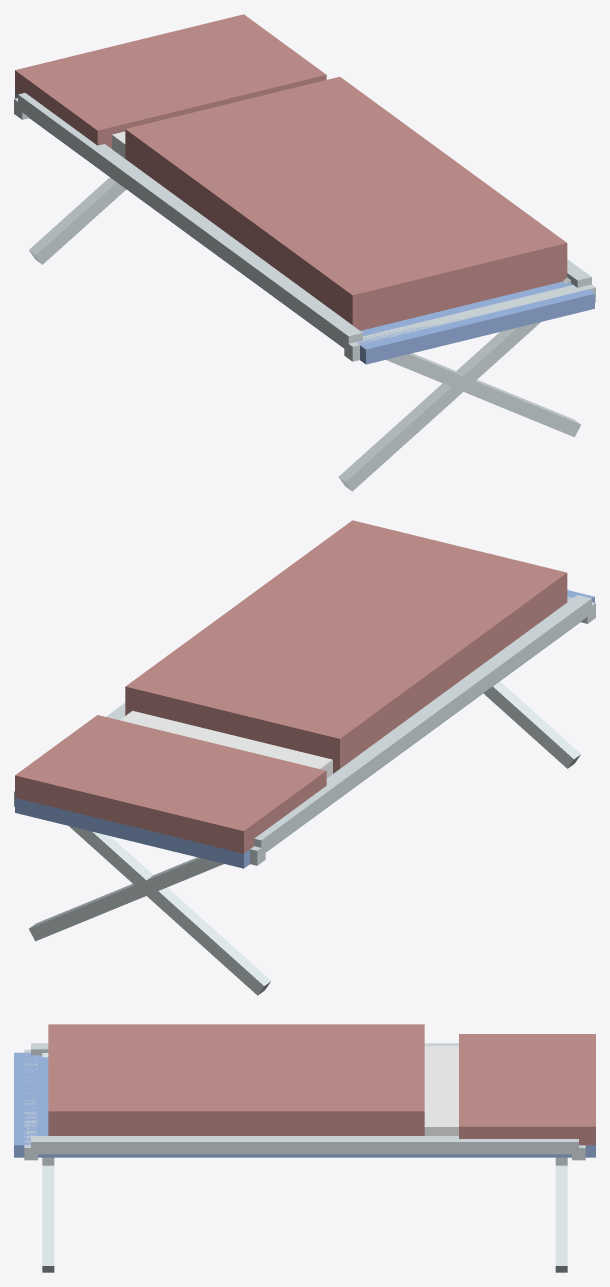
File: bedCot.glb
3 renders of one model, top to bottom at view 1: azimuth 30°, elevation 25°; view 2: azimuth 150°, elevation 25°; view 3: azimuth 270°, elevation 25°, orthographic. The views are drawn at different scales.
Visible parts, largest first — view 1: bedCot; view 2: bedCot; view 3: bedCot.
Part boxes in pixels (left/top/right/bottom): bedCot: left=14, top=14, right=595, bottom=491; bedCot: left=14, top=520, right=595, bottom=995; bedCot: left=14, top=1024, right=595, bottom=1272.
Size of the model in its own units: 0.34 by 0.2574 by 0.85.
